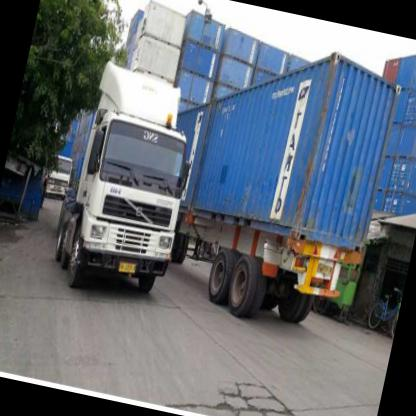truck: (61, 111, 198, 306)
